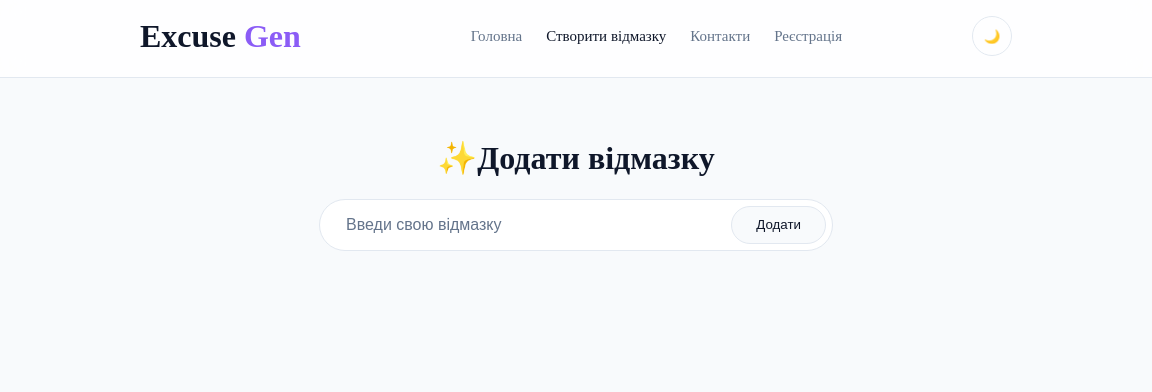
Test: Сторінка додавання відмазок › 5. Збільшує лічильник лайків при натисканні на 👍
In the field with placeholder "Введи свою відмазку": (529, 225) [326,206,731,244], type "Відмазка для лайку"
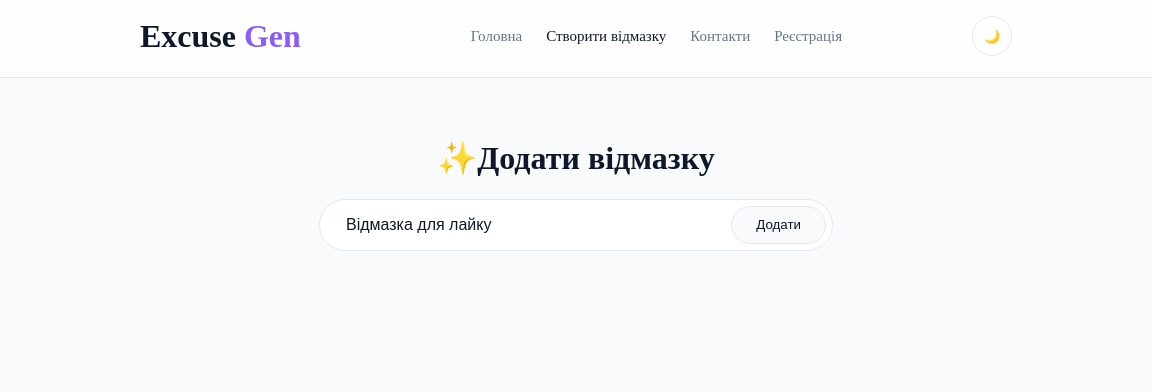
Click the button "Додати": (779, 225) [731,206,826,244]
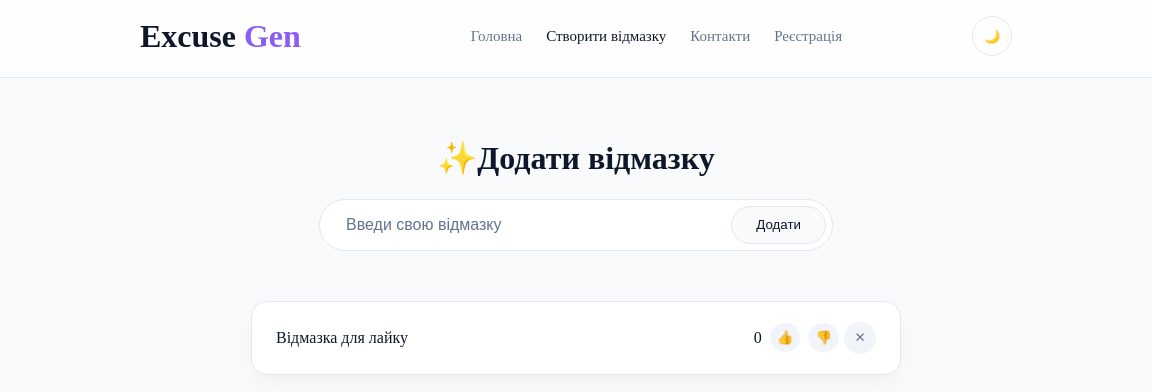
Result: the text with class "likes" reads "0" at [754,329,762,347]
Click the button "👍": (786, 338) [770,323,801,352]
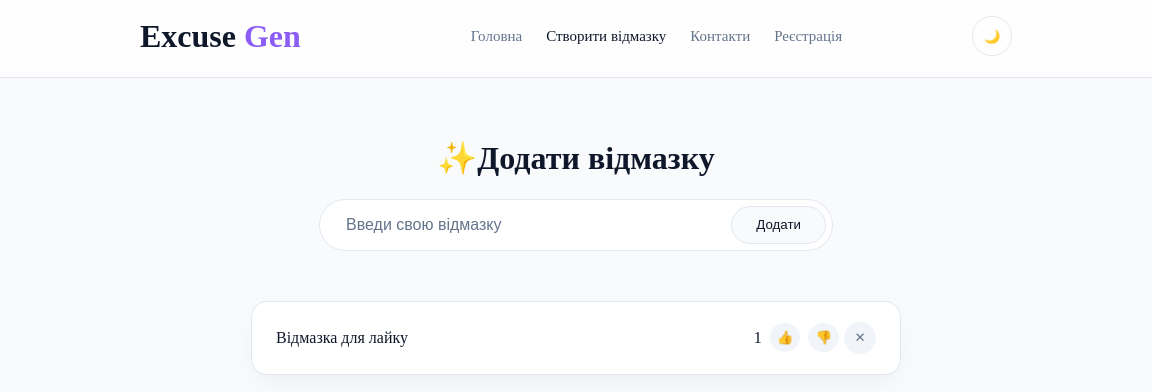
Result: the text with class "likes" reads "1" at [754,329,762,347]
